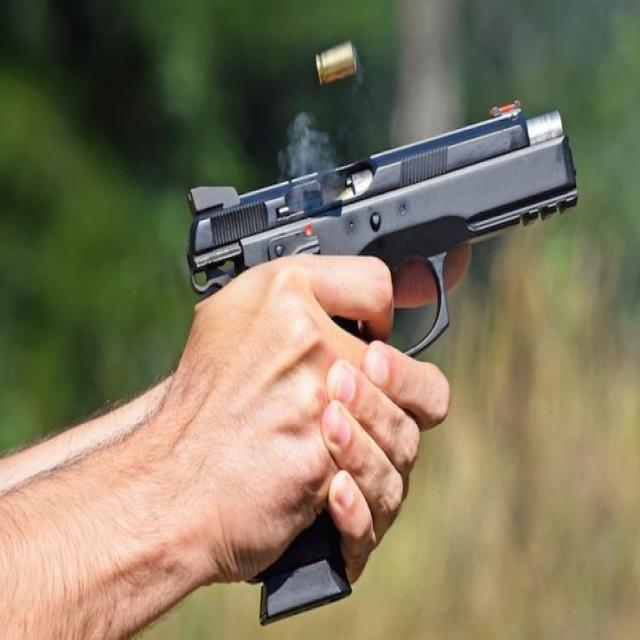HandGun: (187, 103, 580, 358)
